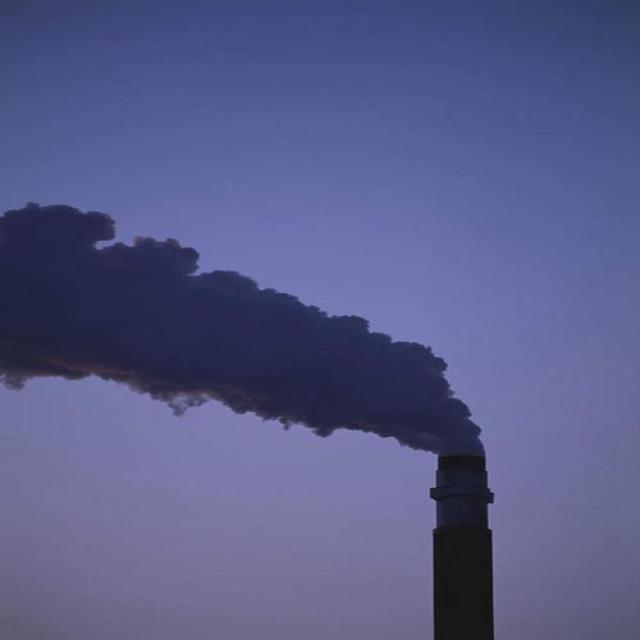Smoke: (1, 197, 484, 458)
